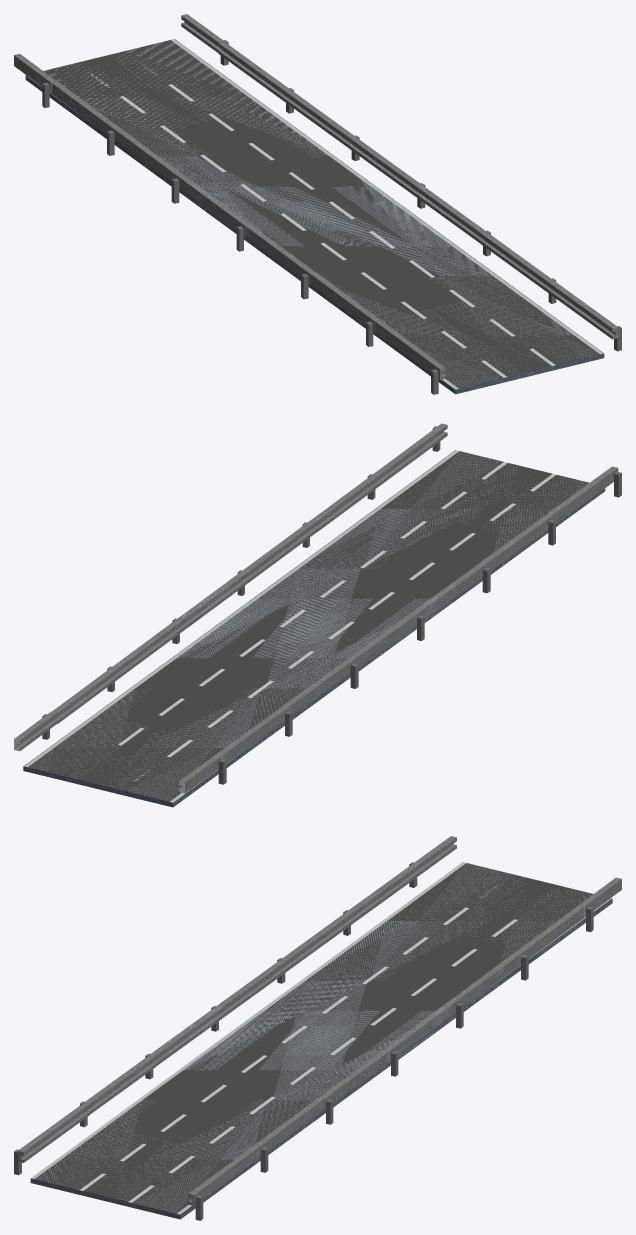
The model's file is Straight Roald V3.dae.
3 renders of one model, top to bottom at view 1: azimuth 30°, elevation 25°; view 2: azimuth 150°, elevation 25°; view 3: azimuth 330°, elevation 25°, orthographic.
Parts seen in each view (by area): view 1: group_8 (×2), STRAIGHT_DIVIDER_V3 (×12), group_7 (×2), group_2, group_5; view 2: group_8, STRAIGHT_DIVIDER_V3 (×12), group_7 (×2), group_2, group_5; view 3: group_8 (×3), STRAIGHT_DIVIDER_V3 (×12), group_7, group_5, group_2.
Boxes of the visible parts, x1,y1,x2,y2 form: group_8 (×2): (44,40,604,394); STRAIGHT_DIVIDER_V3 (×12): (51,41,617,379); group_7 (×2): (25,39,603,393); group_2: (181,14,224,52); group_5: (14,53,56,92); group_8: (28,451,589,801); STRAIGHT_DIVIDER_V3 (×12): (52,423,617,762); group_7 (×2): (23,450,605,807); group_2: (14,711,57,750); group_5: (179,753,222,793); group_8 (×3): (30,862,592,1219); STRAIGHT_DIVIDER_V3 (×12): (18,863,584,1205); group_7: (180,898,612,1219); group_5: (413,836,456,875); group_2: (579,877,621,916).
Size of the model in its own units: 4945 by 19688 by 707.
